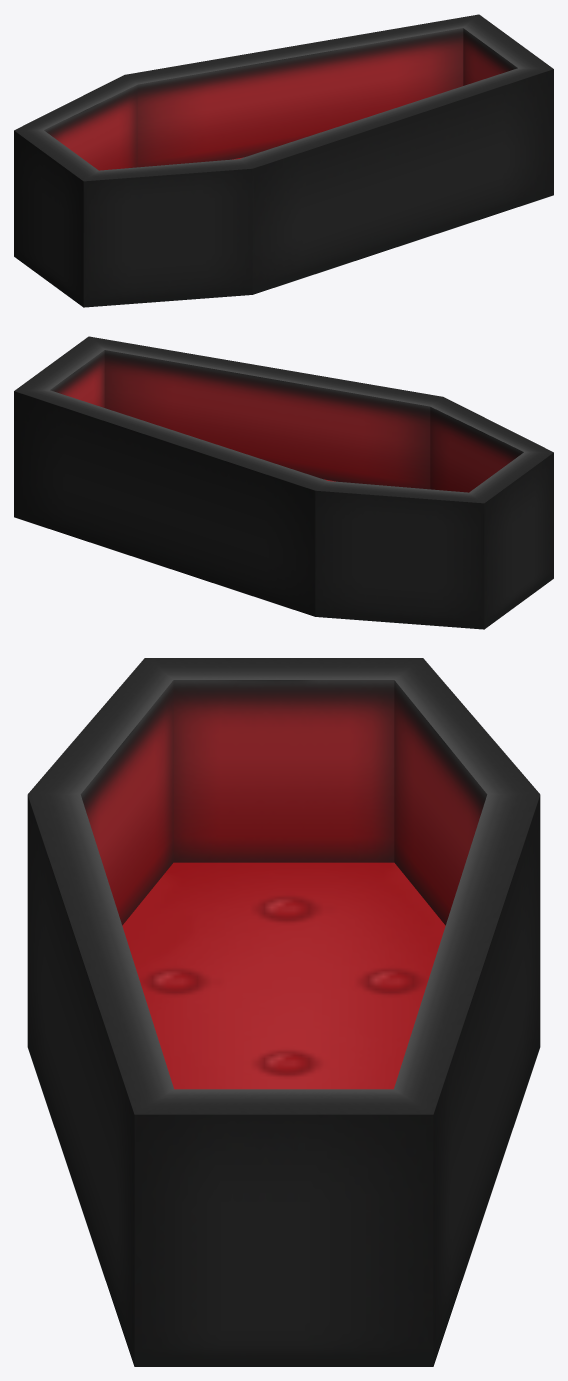
File: Obsturcting_mini goalpost_001.fbx
3 renders of one model, top to bottom at view 1: azimuth 30°, elevation 25°; view 2: azimuth 150°, elevation 25°; view 3: azimuth 270°, elevation 25°, orthographic. The views are drawn at different scales.
Visible parts, largest first — view 1: Obsturcting_mini goalpost_001; view 2: Obsturcting_mini goalpost_001; view 3: Obsturcting_mini goalpost_001.
Part boxes in pixels (x1,y1,x2,y2): Obsturcting_mini goalpost_001: (14, 14, 553, 307); Obsturcting_mini goalpost_001: (14, 336, 553, 629); Obsturcting_mini goalpost_001: (27, 658, 540, 1366).
Bounding box in the file's own units: 1981 × 511 × 940.
